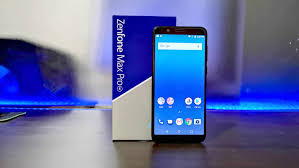asus: (148, 23, 208, 145)
